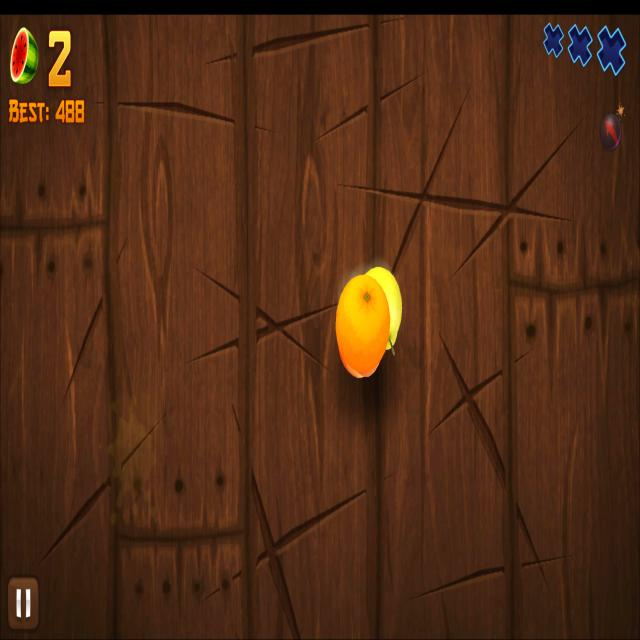fruit: (336, 274, 390, 380)
